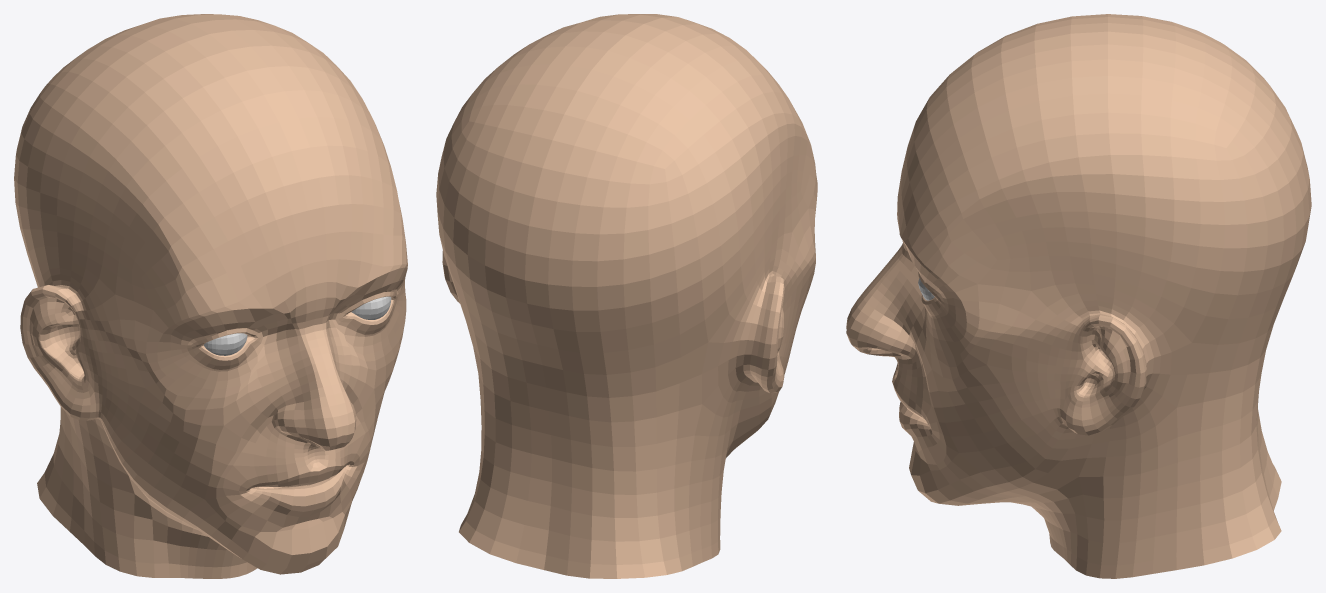
Rendered from head.glb.
3 views of the same model, side by side, from view 1: azimuth 30°, elevation 25°; view 2: azimuth 150°, elevation 25°; view 3: azimuth 270°, elevation 25° (orthographic). The views are drawn at different scales.
Parts seen in each view (by area): view 1: head-col, eyes; view 2: head-col; view 3: head-col.
Part boxes in pixels (box(x1,y1,x2,y2)): head-col: box(14, 14, 407, 578); eyes: box(204, 296, 391, 355); head-col: box(436, 14, 817, 578); head-col: box(846, 14, 1311, 578).
Size of the model in its own units: 1.95 by 2.81 by 2.32.
